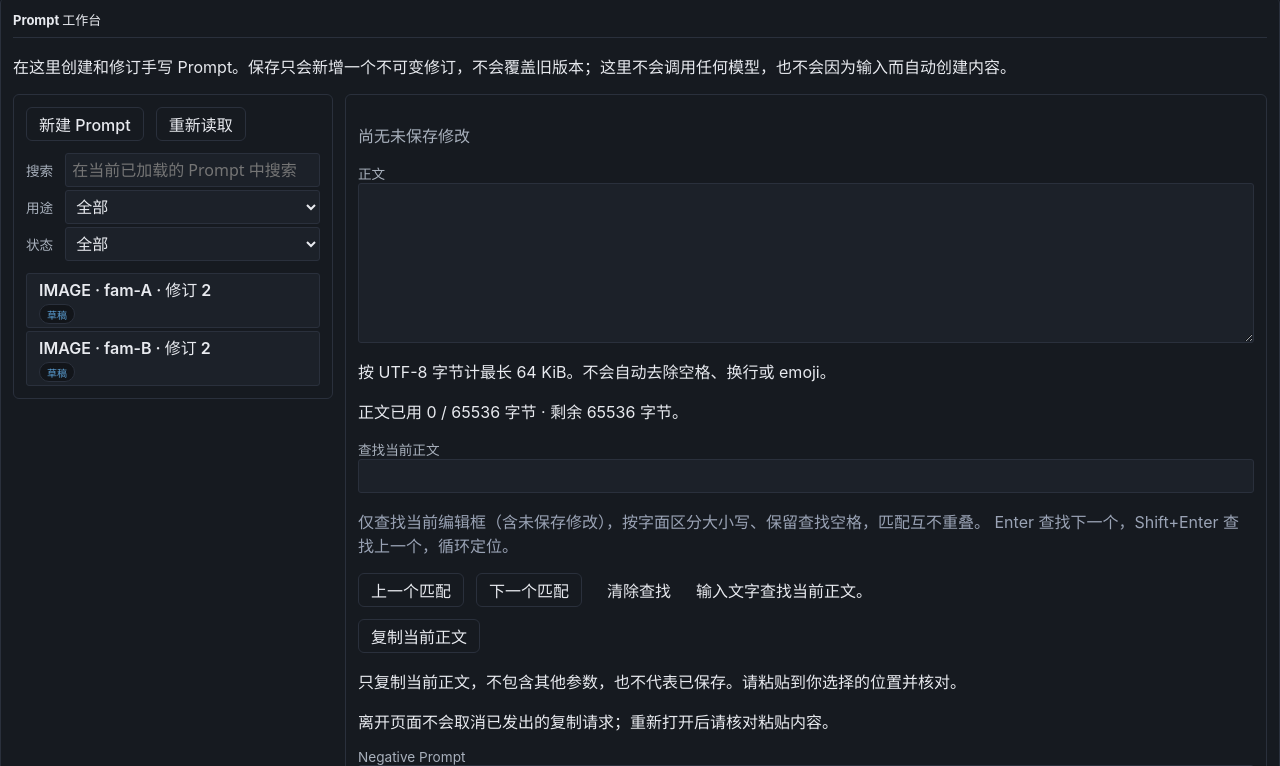
Test: 任务 D：A 的 POST 未返回时用户已切到 B › A 的保存仍被正确处理，但其刷新不得抢占 B
Click the button "IMAGE · fam-A · 修订 2 草稿" at coordinates (173, 300), box [26,273,320,328]
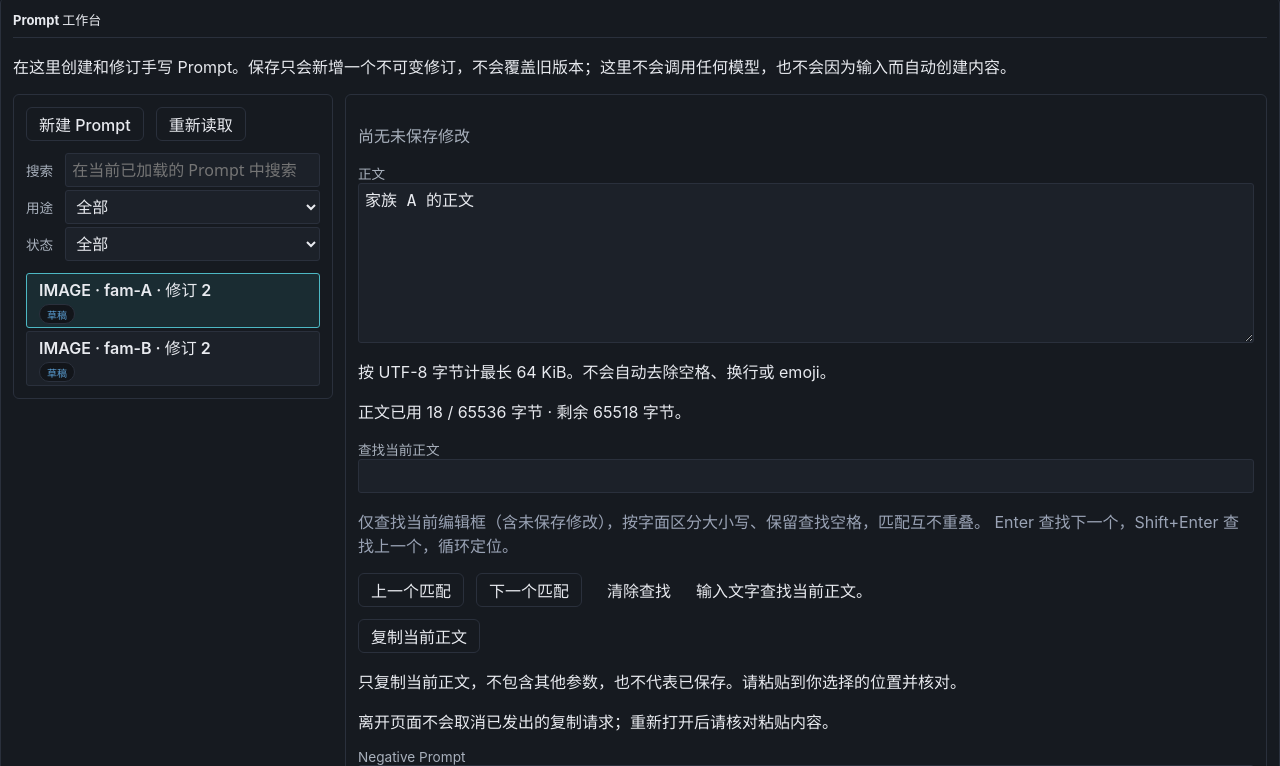
Replace the text in the text box labelled "正文" with "A 的修改" at coordinates (806, 263), box [358,183,1254,343]
(page scrolled)
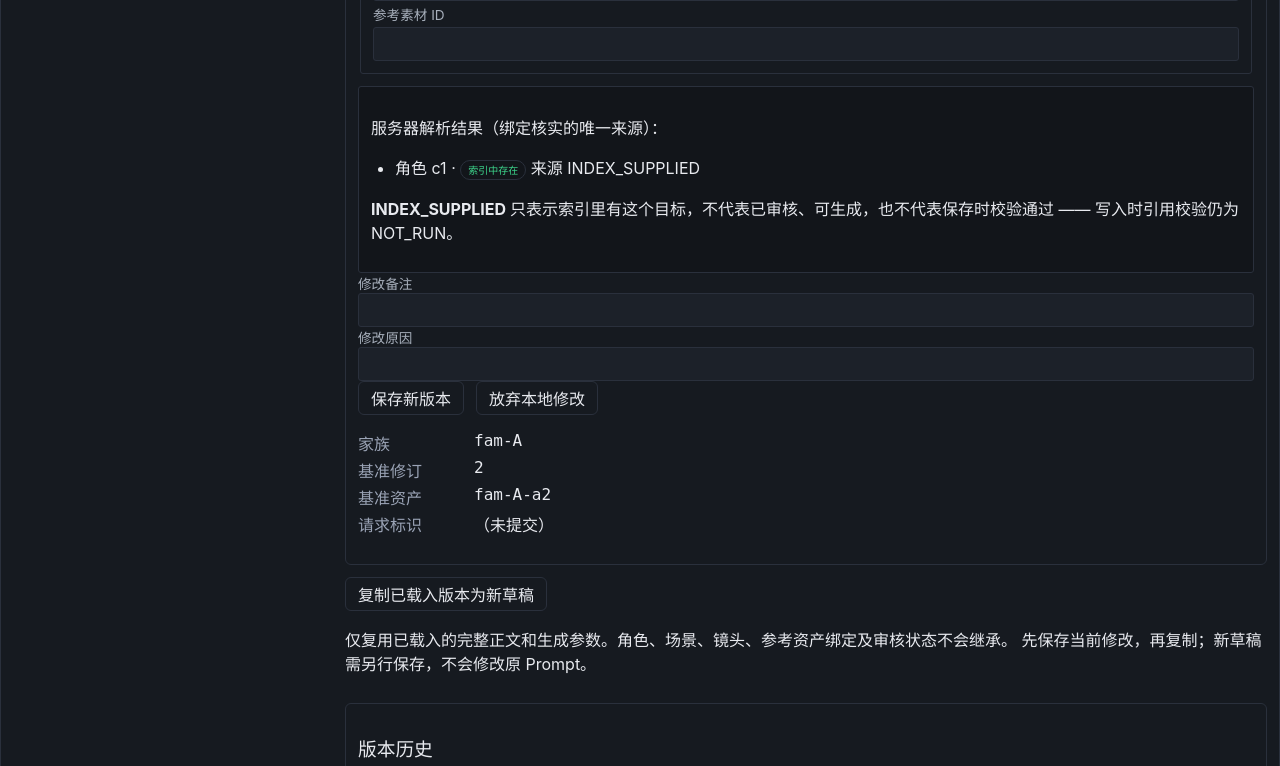
Click the button "保存新版本" at coordinates (411, 398), box [358,380,464,414]
(page scrolled)
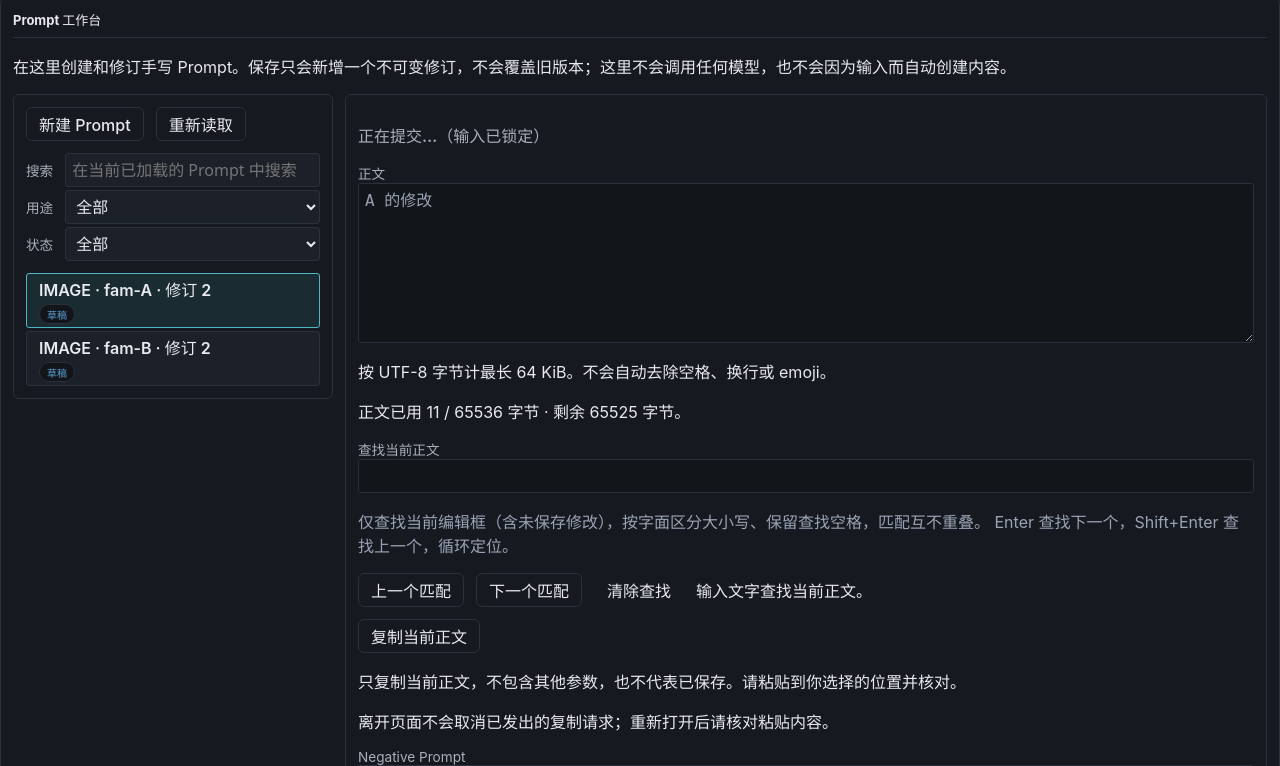
Note: 用户在 A 的回执到达前切到 B，并等 B 的详情显示。
Click the button "IMAGE · fam-B · 修订 2 草稿" at coordinates (173, 358), box [26,331,320,386]
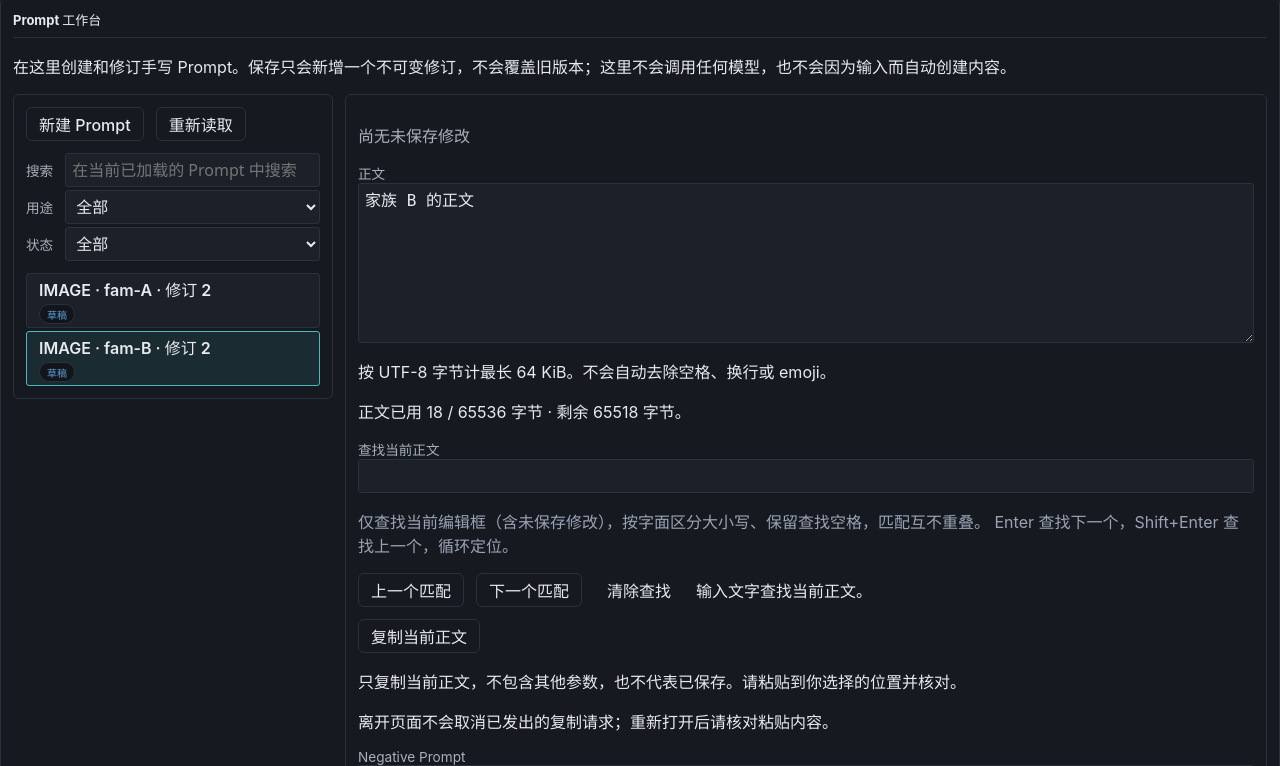
Expected: the text box labelled "正文" holds "家族 B 的正文", [358,183,1254,343]
